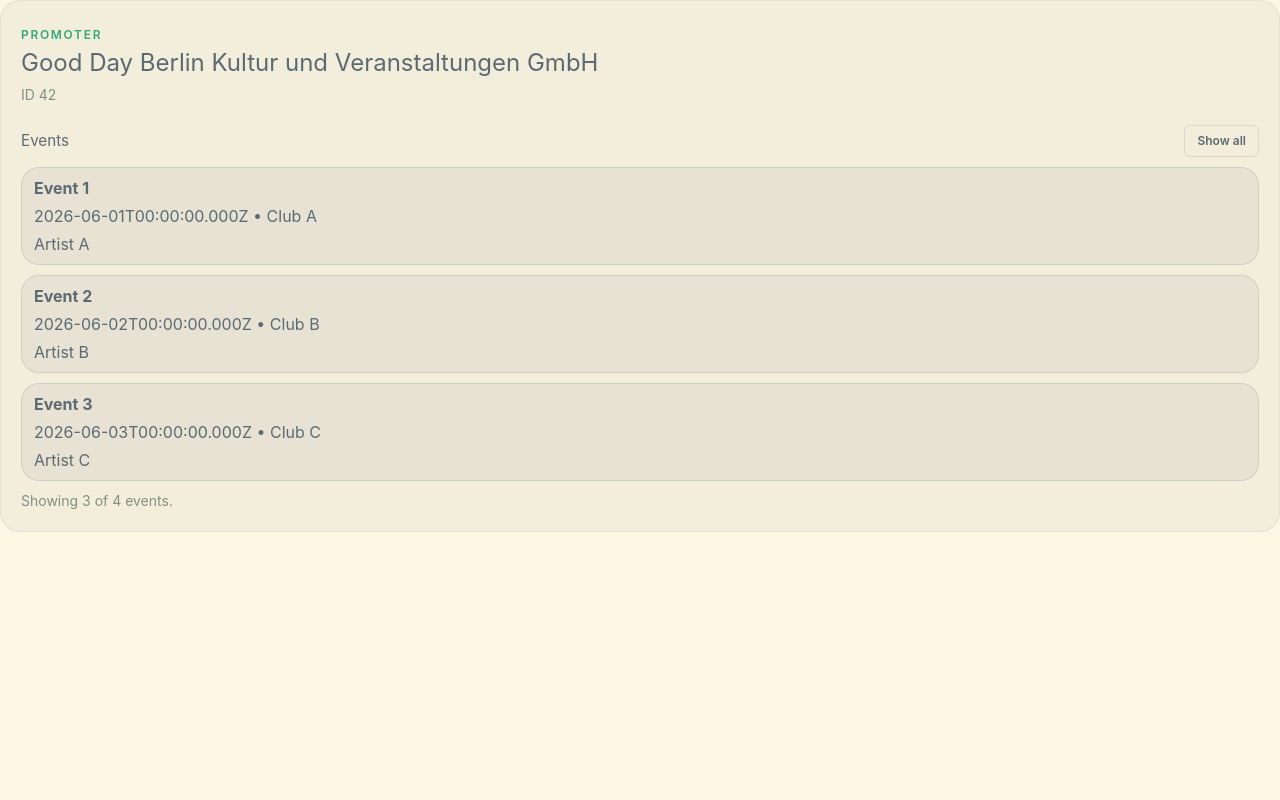
Test case: RenderDetails › shows three promoter events by default and toggles the full list
The width and height of the screenshot is (1280, 800).
Expected: the text "Event 1" is shown, [34,178,89,198]
Expected: the text "Event 2" is shown, [34,286,92,306]
What coordinates should you click on to do the following:
click the button "Show all"
I would click on:
 (1222, 141)
Its box is [1184,125,1259,157].
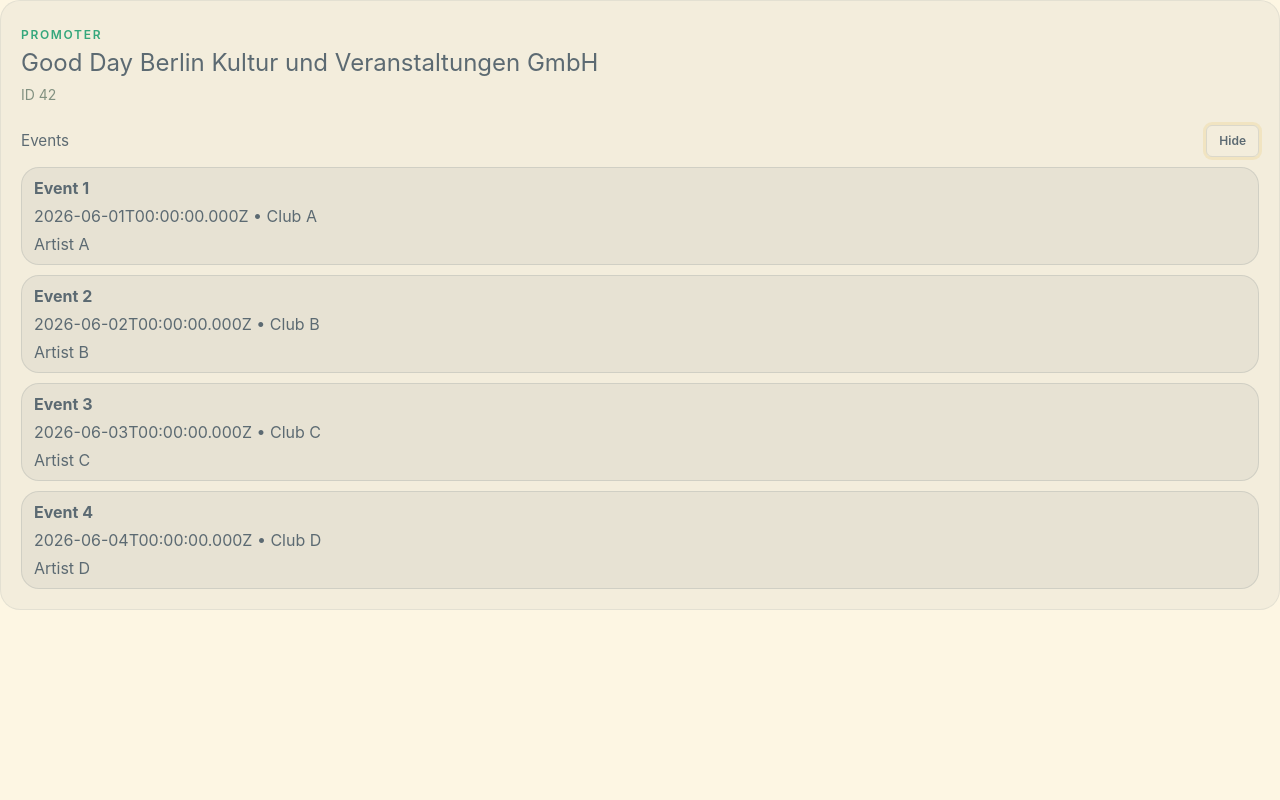
Expected: the button "Hide" is shown
Expected: the text "Event 4" is shown, [34,502,93,522]
Expected: the text "Showing 3 of 4 events." is gone
What coordinates should you click on to do the following:
click the button "Hide"
I would click on:
 (1233, 141)
Its box is [1206,125,1259,157].
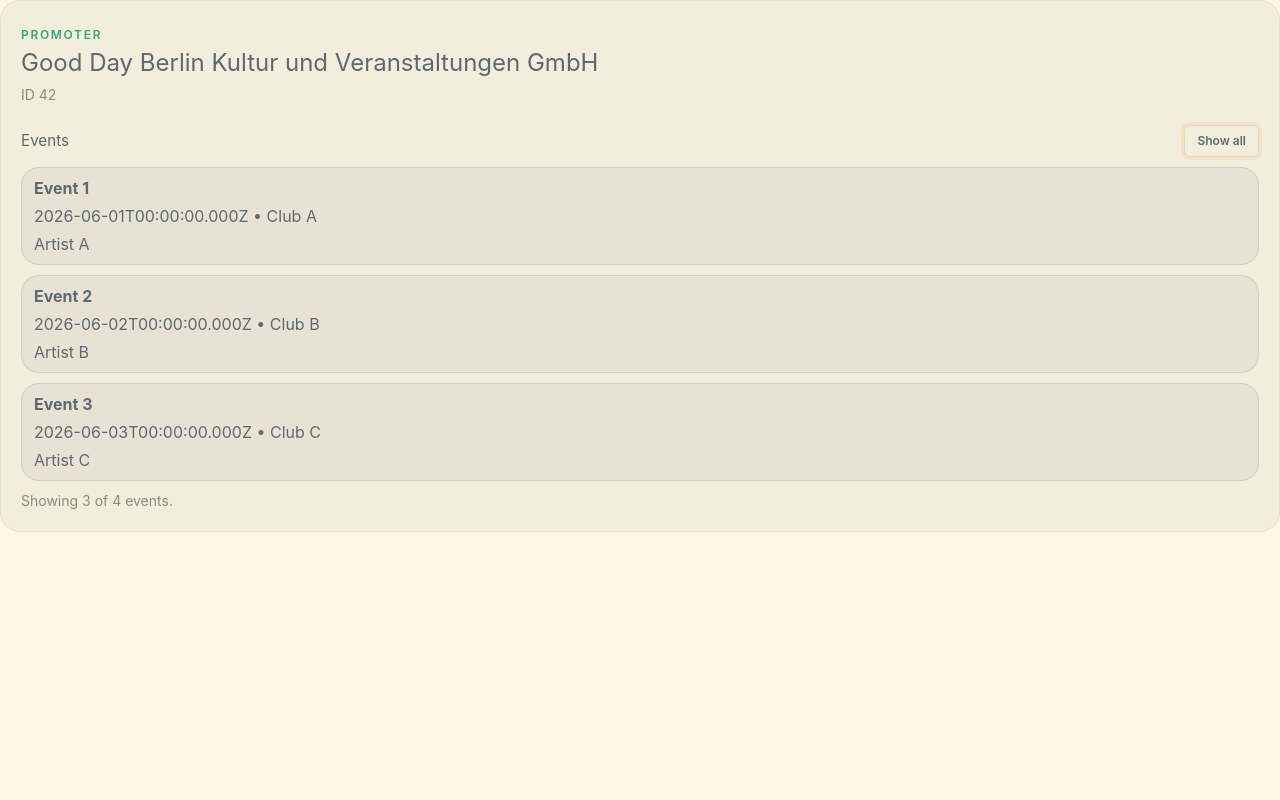
Expected: the button "Show all" is shown, [1184,125,1259,157]
Expected: the link "Event 4" is gone
